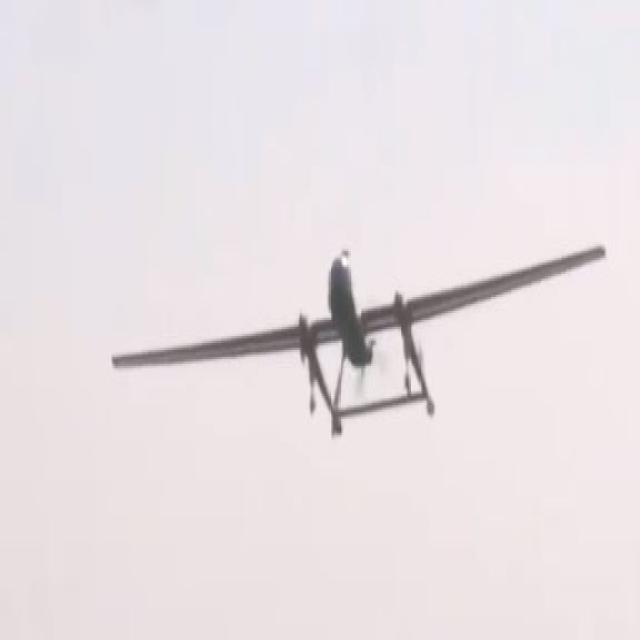iha: (108, 235, 613, 441)
